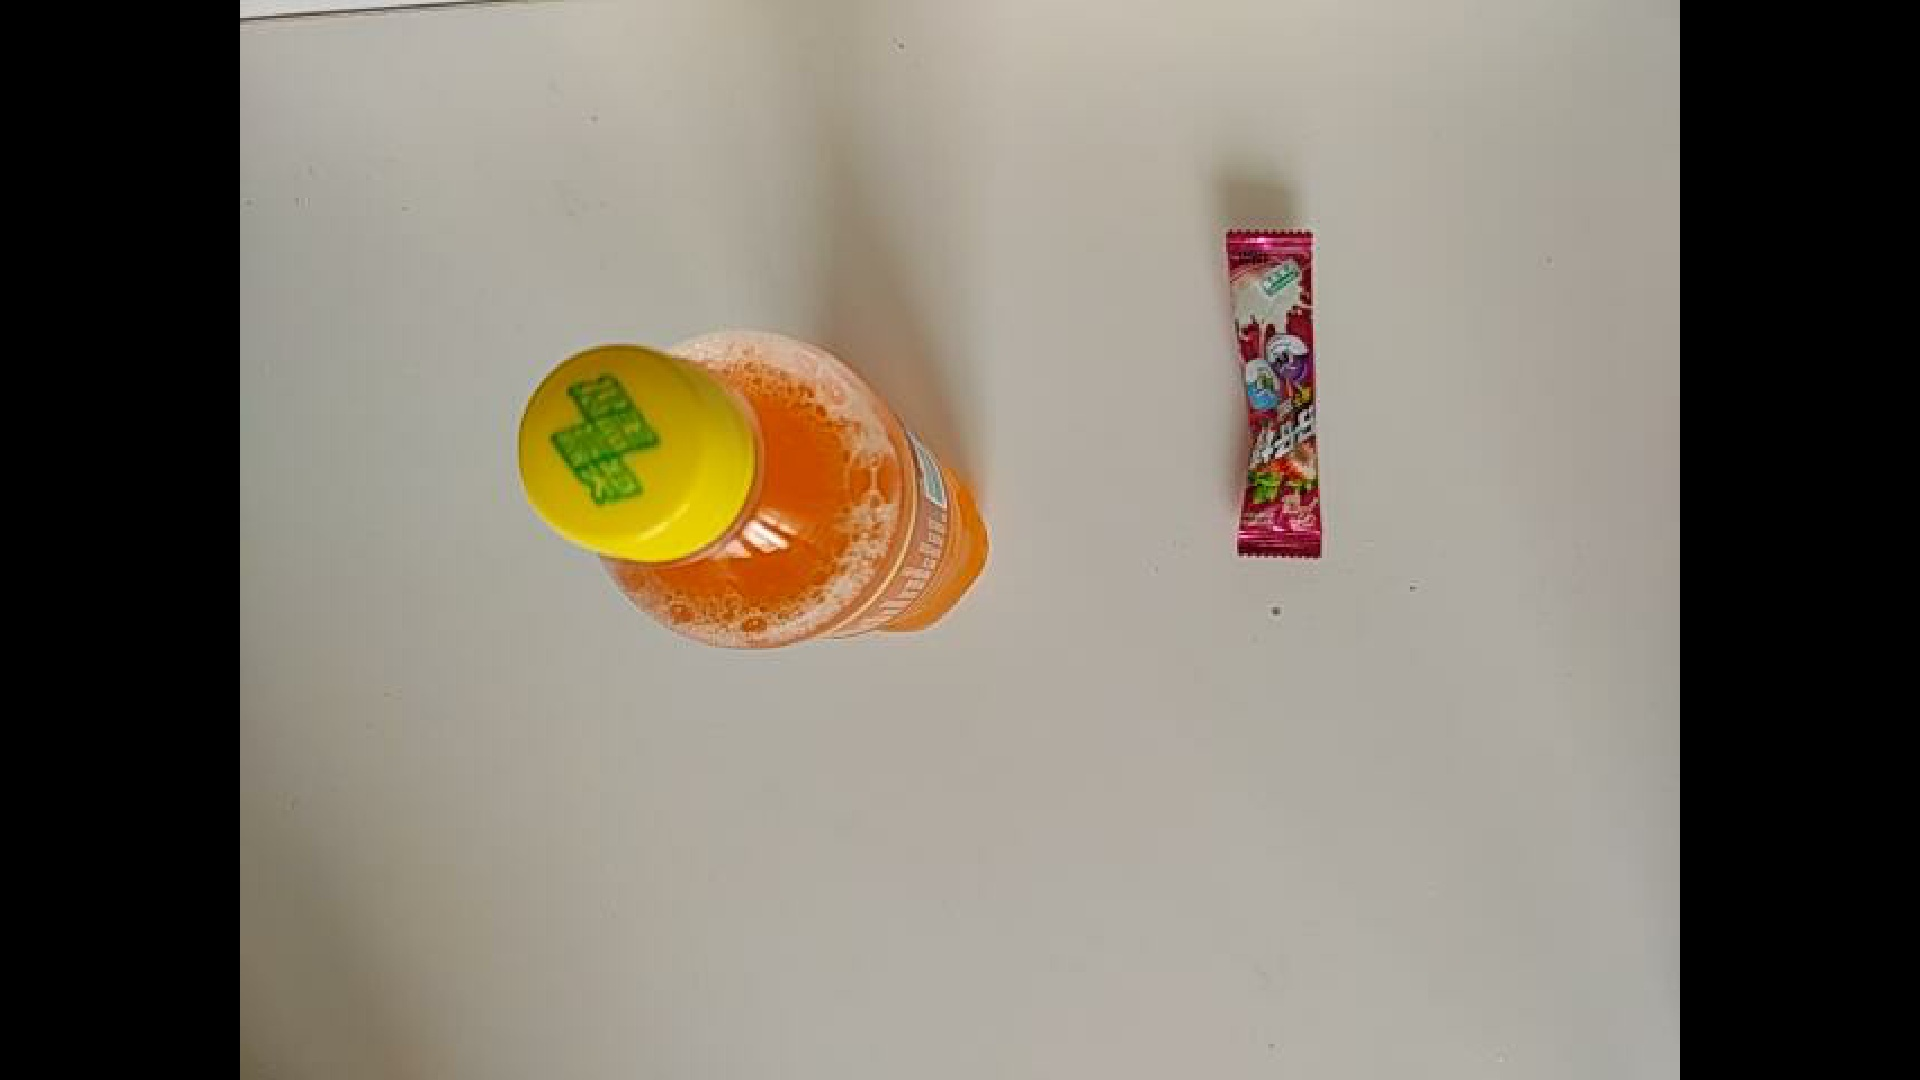fenta: (516, 326, 992, 651)
sugar: (1224, 227, 1323, 560)
